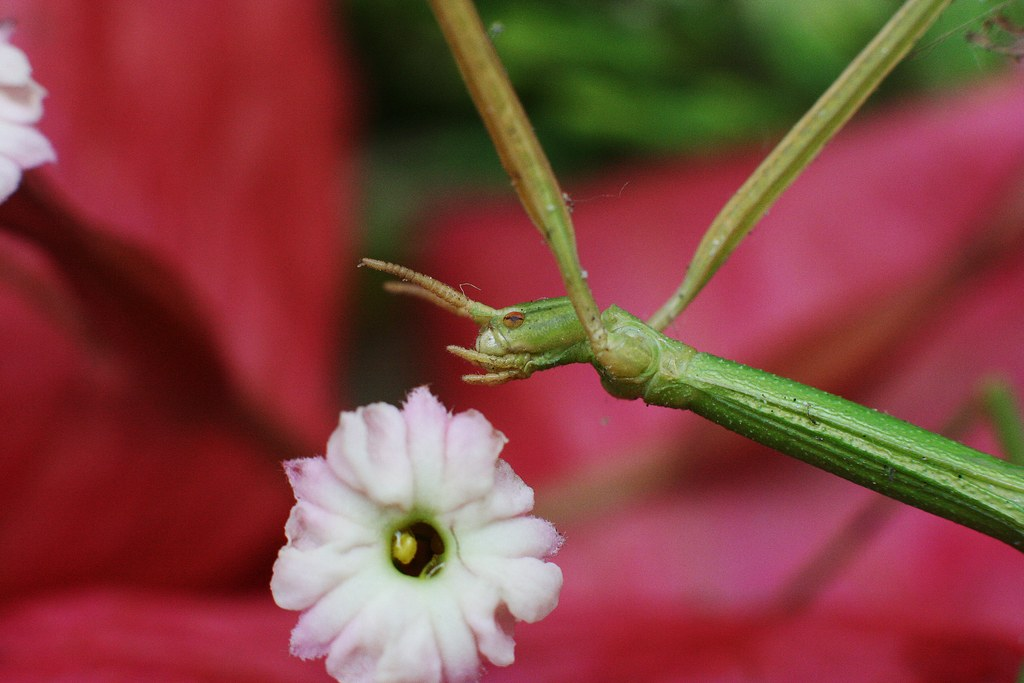insect: (351, 0, 1023, 556), (271, 383, 572, 675), (0, 21, 58, 206)
